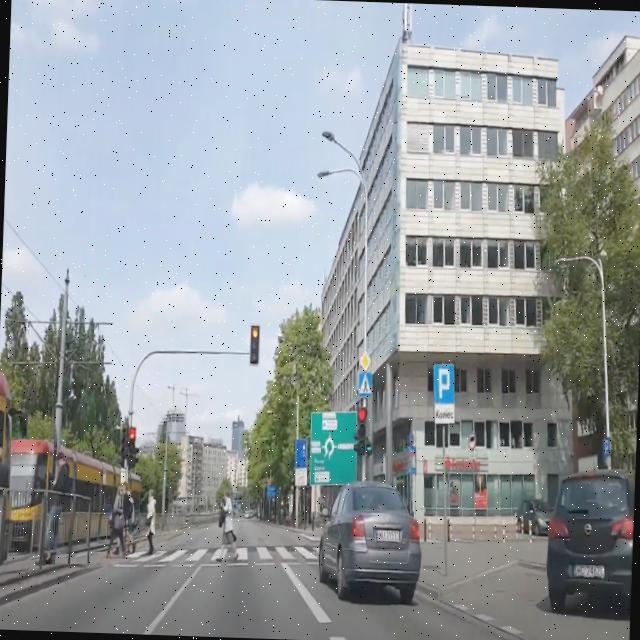Droga z pierwszenstwem: (358, 348, 371, 371)
Przejscie dla pieszych: (357, 370, 373, 398)
